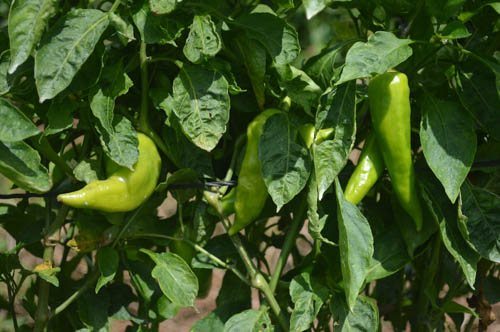ChiliPepper: (55, 138, 162, 221), (371, 70, 423, 230), (228, 111, 281, 240), (345, 137, 383, 212)
